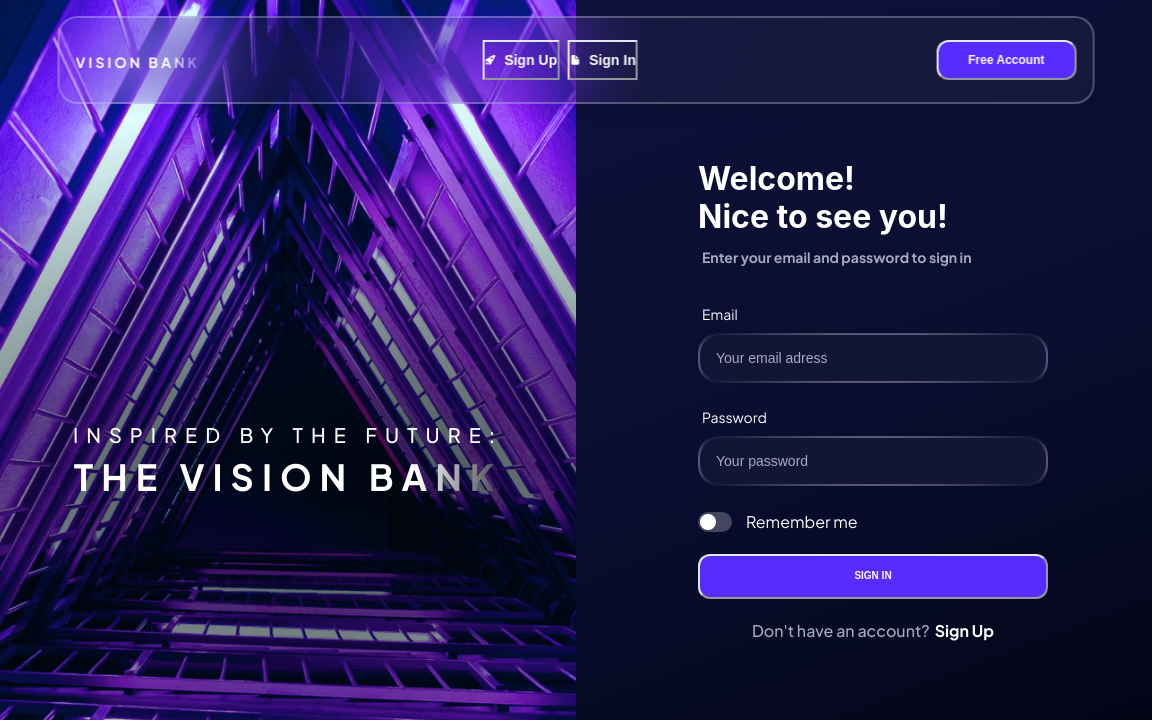
Test: Login Page › Login Page: should render error message when Sign In button is clicked without entering any values
Step 1. Click the button with test id "sign-in-submit" → [873, 576], box x1=698 y1=554 x2=1048 y2=599
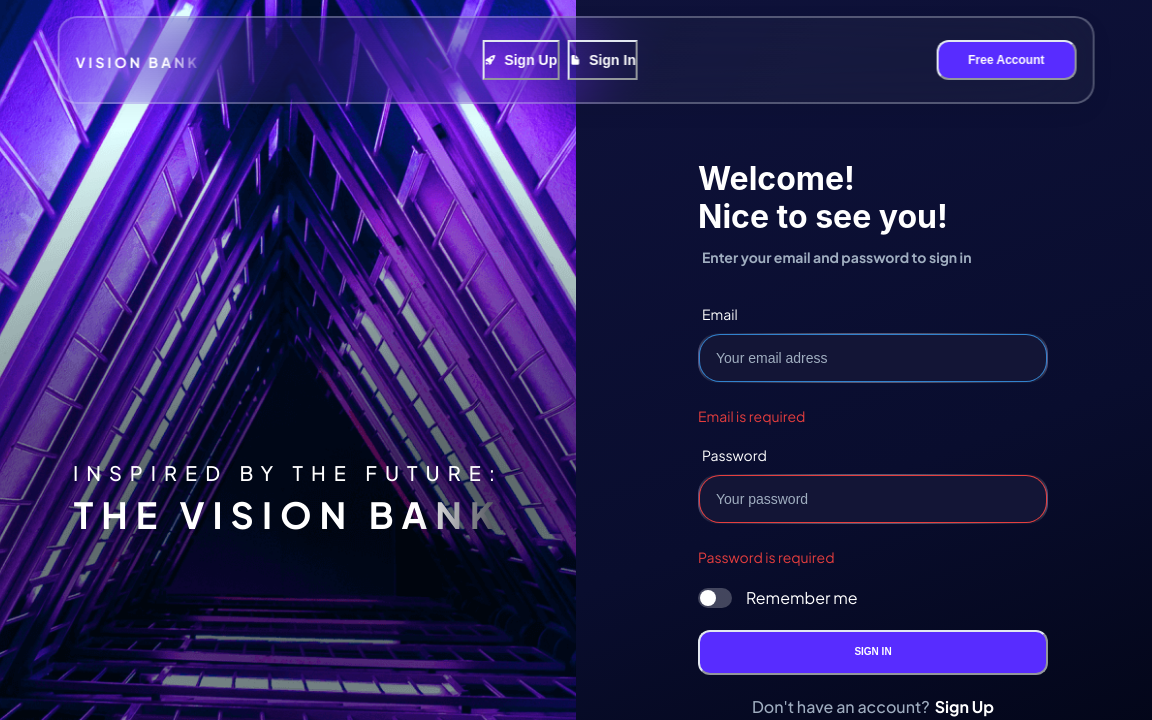
Check: the text "Email is required" is shown, box x1=698 y1=407 x2=805 y2=425
Check: the text "Password is required" is shown, box x1=698 y1=548 x2=834 y2=566
